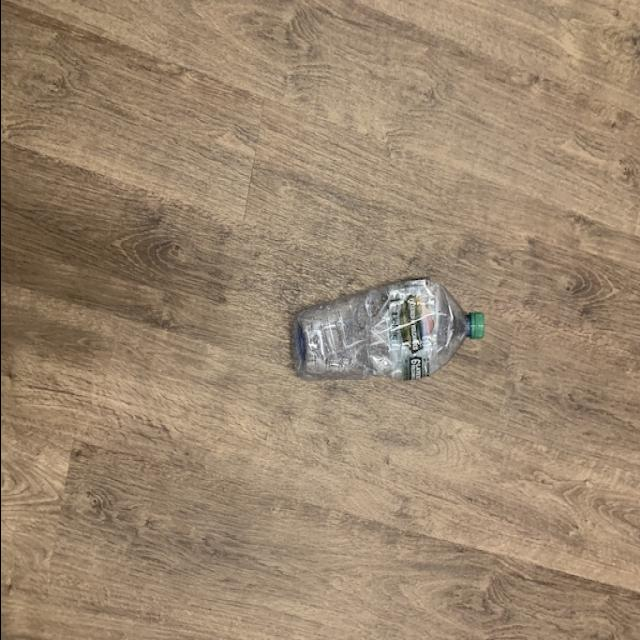litter: (291, 278, 484, 387)
